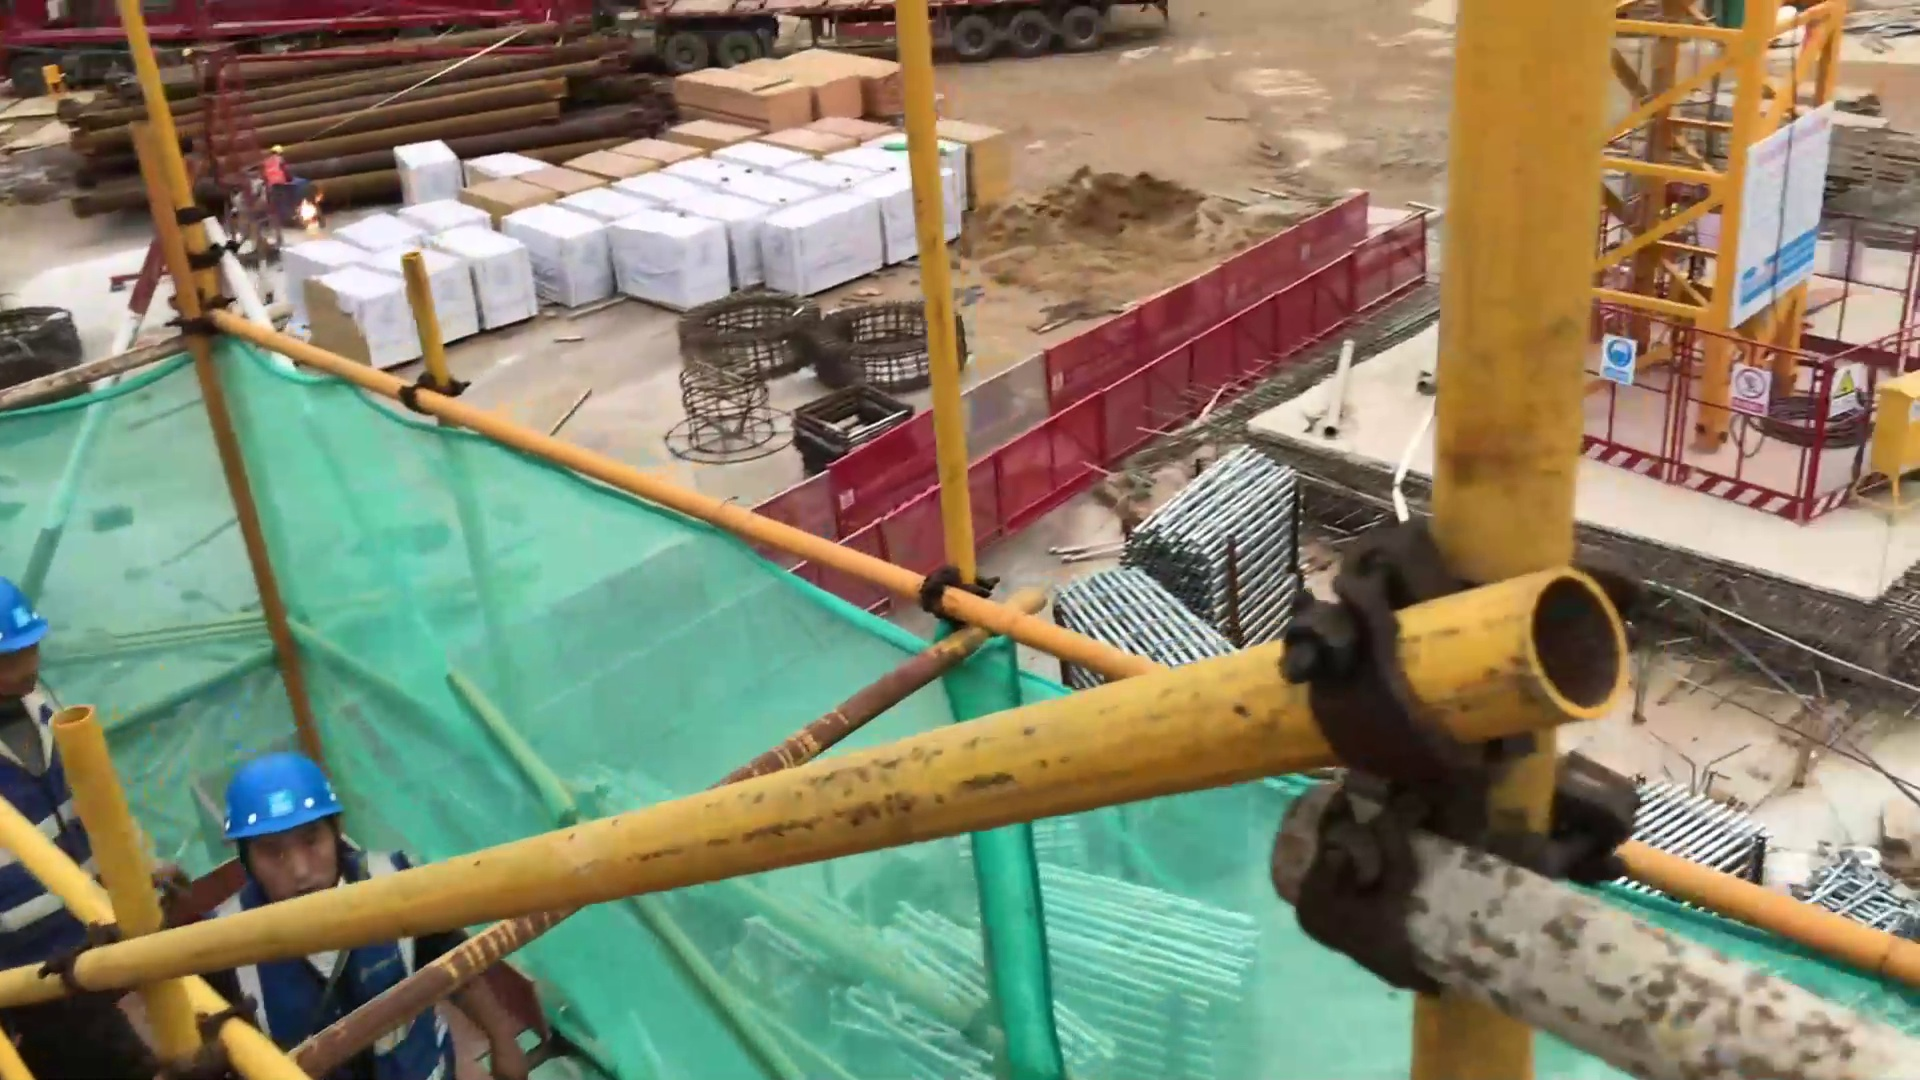ebox: (1857, 360, 1920, 528)
fence: (1172, 211, 1427, 404)
helmet: (213, 747, 349, 846), (1, 572, 61, 659)
person: (195, 742, 536, 1080), (1, 574, 121, 937), (259, 142, 321, 223)
scaffold: (1022, 876, 1270, 1080), (1151, 434, 1311, 631), (1062, 568, 1210, 679), (1640, 779, 1767, 874)
slogan: (1744, 85, 1828, 331), (1597, 326, 1649, 400), (1736, 367, 1782, 416), (1829, 359, 1862, 424)
vest: (229, 896, 461, 1080), (264, 155, 292, 188)
wood: (695, 42, 906, 137)
